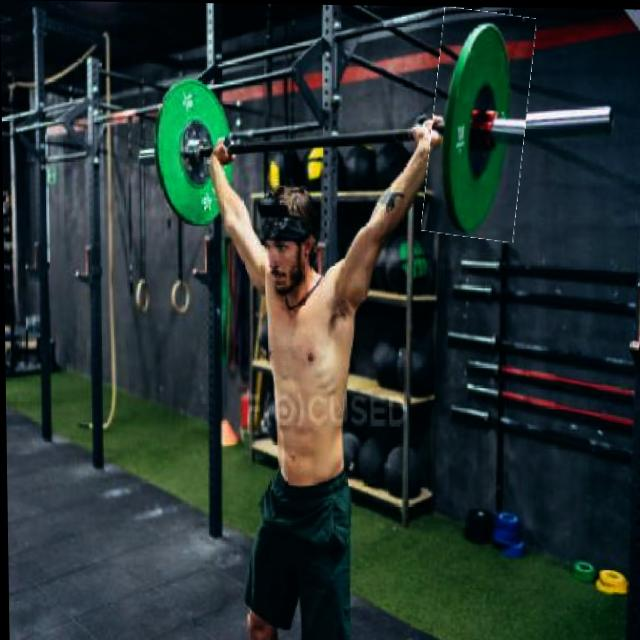barbell: (425, 8, 533, 240)
